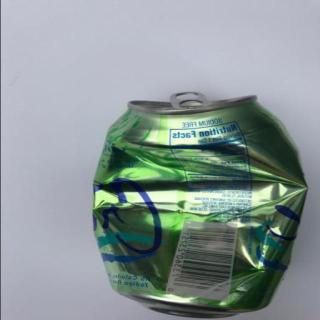Anorganik: (88, 90, 309, 319)
